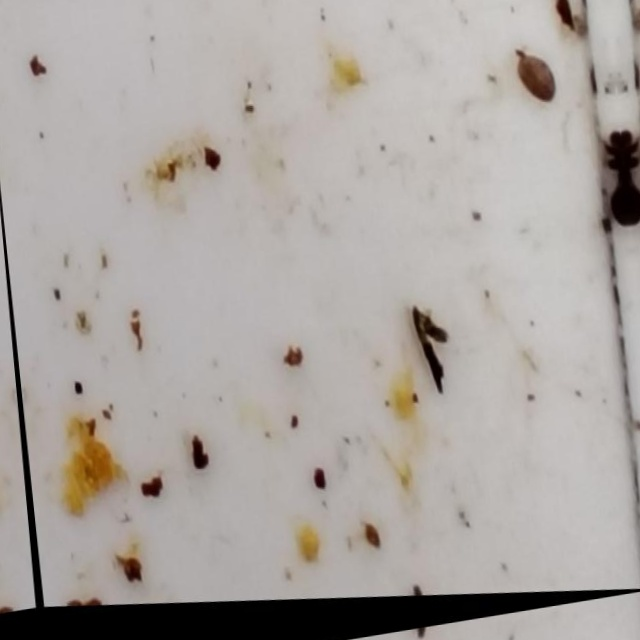varroa: (597, 130, 629, 232)
